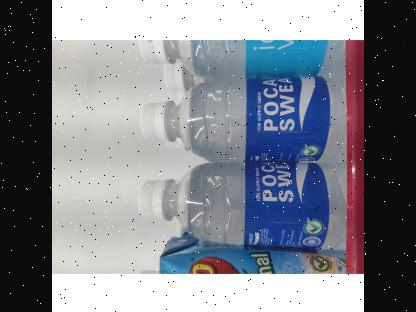Plastic Bottle: (139, 160, 348, 250), (139, 76, 347, 158)
